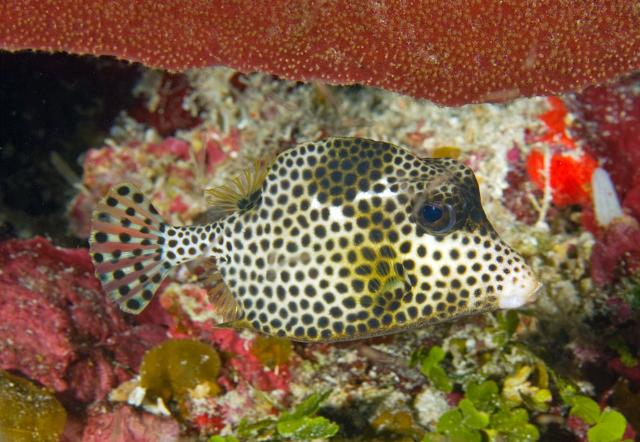Mulut: (506, 249, 576, 337)
Sirip Anal: (185, 251, 251, 339)
Sirip Dada: (310, 182, 424, 318)
Sirip Ekor: (79, 170, 197, 332)
